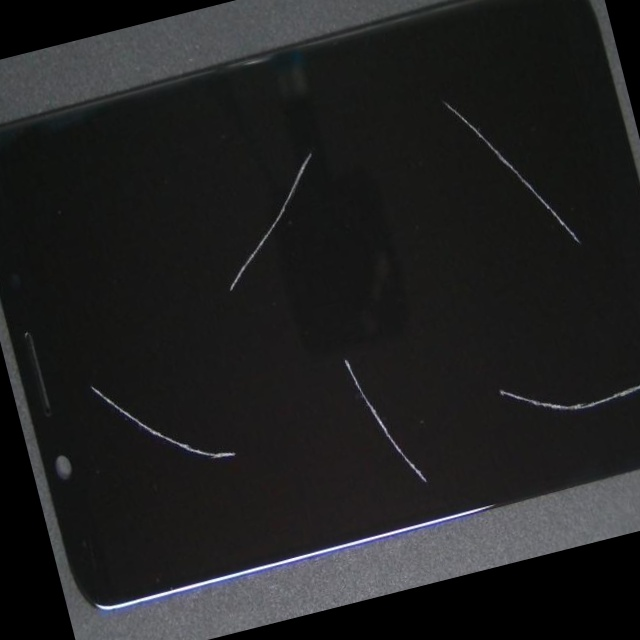scratch: (90, 74, 570, 639), (302, 173, 640, 595), (17, 139, 410, 446), (89, 247, 385, 640), (336, 152, 640, 364)
